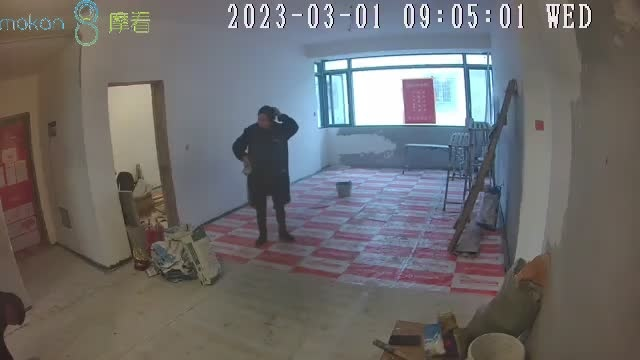people: (232, 106, 298, 248)
window: (316, 53, 494, 125)
